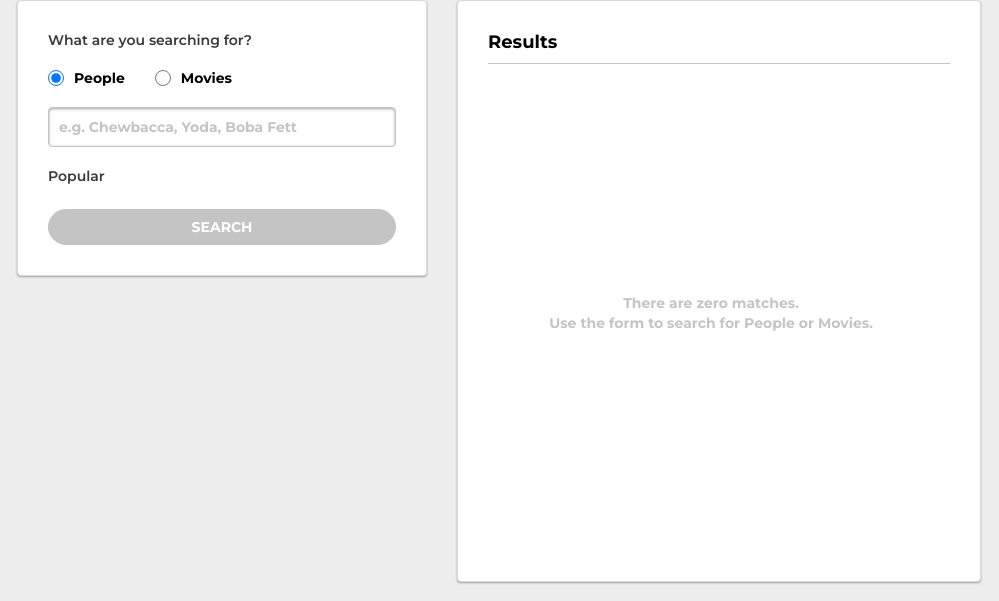
Scenario: Home › changes input placeholder based on category selection
Expected: the radio button labelled "People" is checked, x1=48 y1=70 x2=64 y2=86
Click the radio button labelled "Movies" at (163, 78), box x1=155 y1=70 x2=171 y2=86
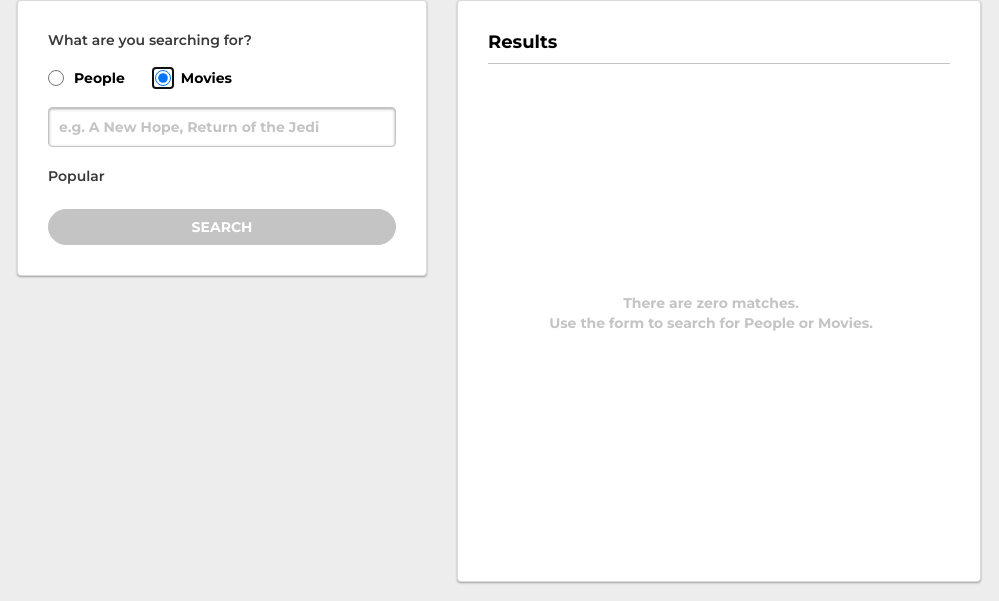
Expected: the radio button labelled "Movies" is checked, x1=155 y1=70 x2=171 y2=86
Expected: the radio button labelled "People" is not checked, x1=48 y1=70 x2=64 y2=86
